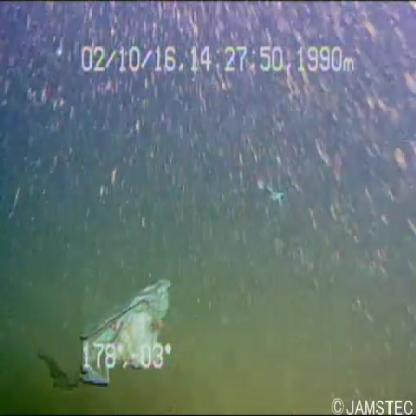Rác: (72, 270, 178, 386), (239, 171, 296, 210)
